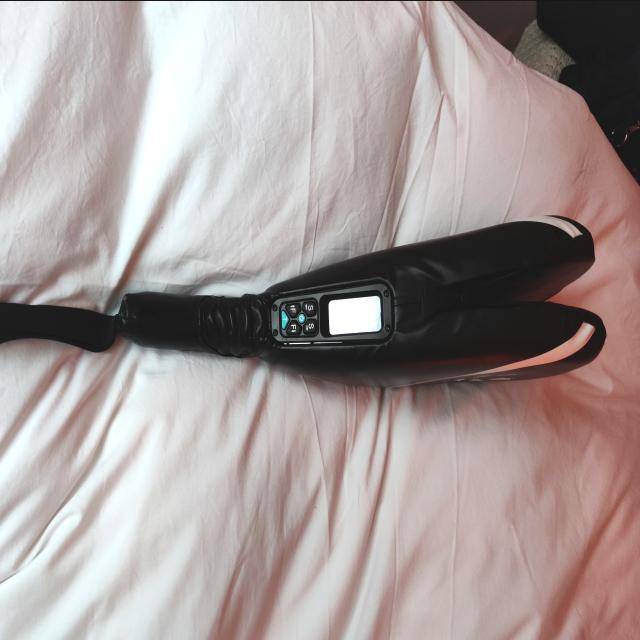paddle: (114, 208, 610, 396)
